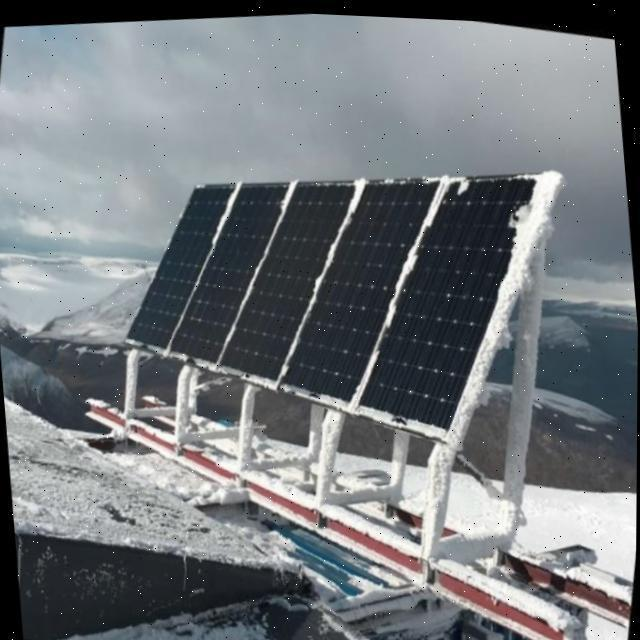Anomaly Solar Panel: (353, 172, 562, 437), (278, 174, 444, 406), (217, 178, 359, 382), (167, 180, 292, 362), (125, 182, 238, 350)
Snow: (435, 161, 572, 441), (342, 173, 466, 404), (274, 175, 370, 382), (213, 177, 299, 363), (162, 180, 243, 350)
